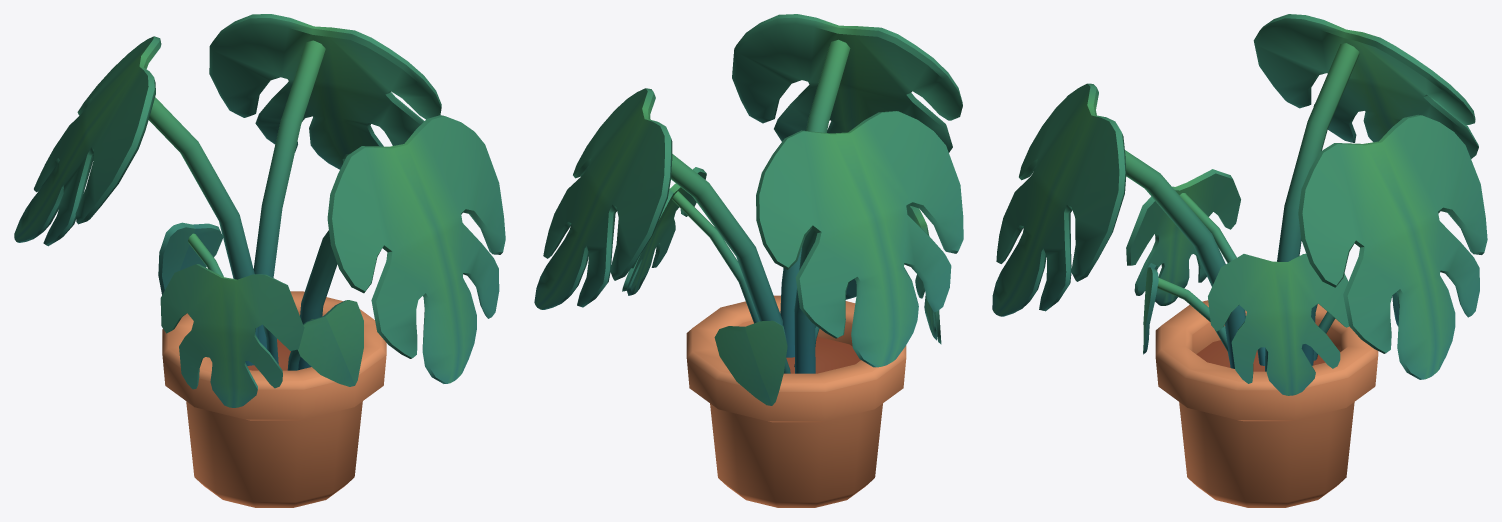
The model's file is Monstera Plant-mhLLD0UJ5n.glb.
3 views of the same model, side by side, from view 1: azimuth 30°, elevation 25°; view 2: azimuth 150°, elevation 25°; view 3: azimuth 270°, elevation 25° (orthographic). The views are drawn at different scales.
Parts seen in each view (by area): view 1: monstera_plant_medium_potted; view 2: monstera_plant_medium_potted; view 3: monstera_plant_medium_potted.
Boxes of the visible parts, x1,y1,x2,y2 form: monstera_plant_medium_potted: (14, 14, 505, 507); monstera_plant_medium_potted: (534, 14, 963, 507); monstera_plant_medium_potted: (992, 14, 1487, 507).
Size of the model in its own units: 2.02 by 2.04 by 2.22.
1 material, 1 textured.
